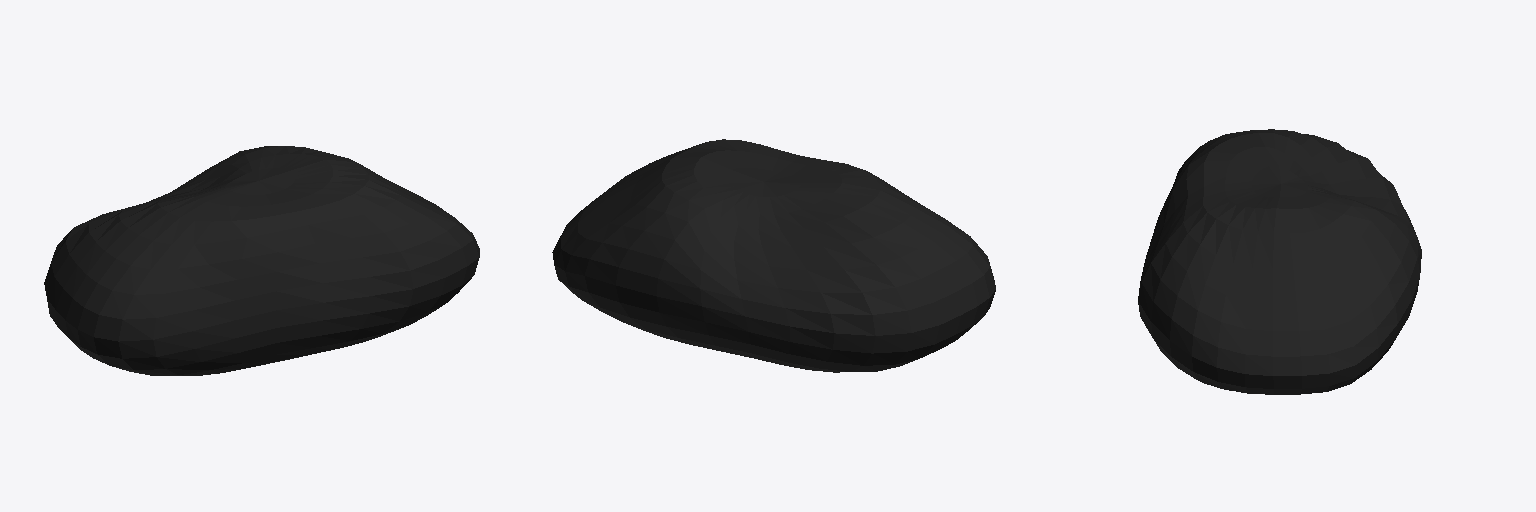
File: batu.obj
3 renders of one model, left to right at view 1: azimuth 30°, elevation 25°; view 2: azimuth 150°, elevation 25°; view 3: azimuth 270°, elevation 25°, orthographic.
Visible parts, largest first — view 1: Sphere; view 2: Sphere; view 3: Sphere.
Boxes of the visible parts, x1,y1,x2,y2 form: Sphere: [44, 146, 479, 375]; Sphere: [552, 139, 995, 372]; Sphere: [1138, 129, 1421, 394].
Size of the model in its own units: 3.12 by 1.2 by 1.91.